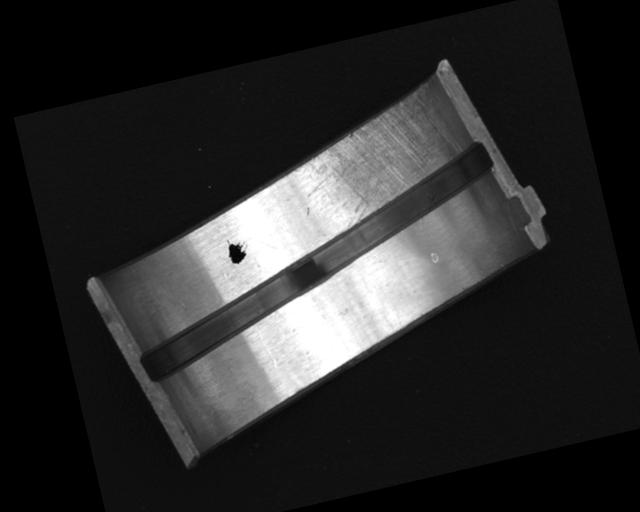blot: (223, 235, 250, 266)
bruise: (428, 249, 440, 264)
gap: (107, 141, 521, 385)
nick: (254, 321, 277, 370)
scratch: (285, 87, 458, 239)
